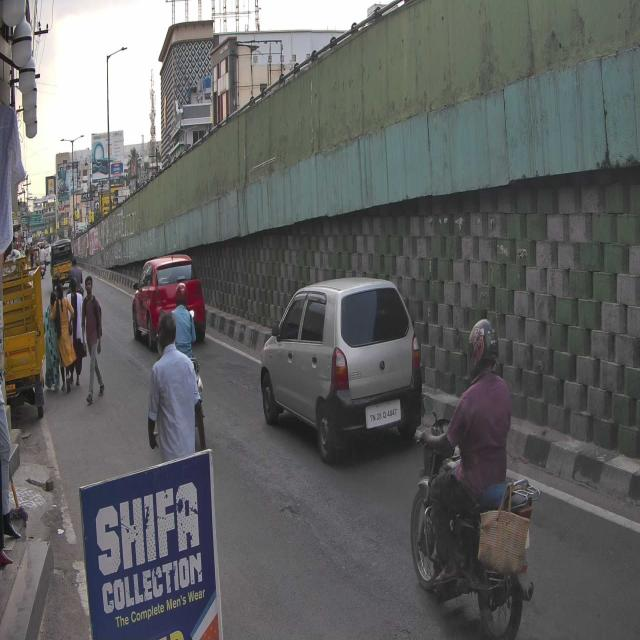single_rider: (409, 313, 540, 636)
